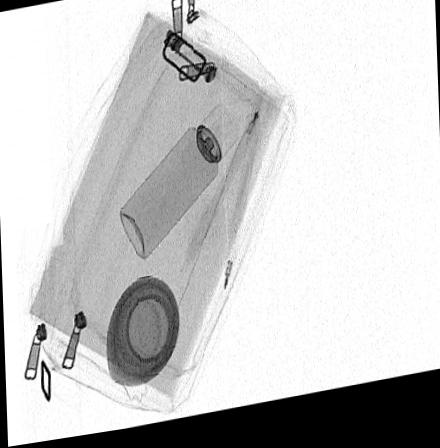Sprayer: (117, 111, 240, 265)
